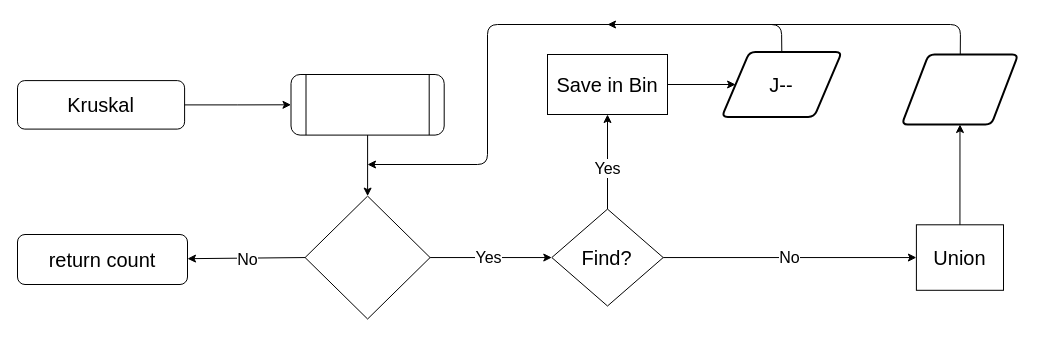
This 1037x337 diagram has some shape labels left out. The shapes that lost their labels are listed below. From the top down, each one's centre as x and y in pixels, then its label:
At (x=367, y=104): "qsort".
At (x=959, y=89): "K++".
At (x=367, y=257): "Not Last Edge?".
